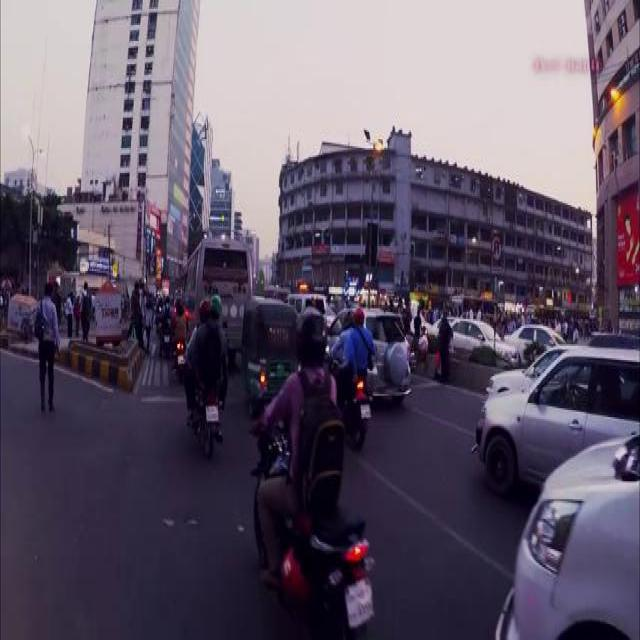bus: (181, 235, 253, 348)
car: (475, 345, 639, 477), (324, 307, 410, 401), (450, 316, 518, 359), (502, 322, 564, 357)
minivan: (504, 426, 638, 637), (284, 292, 326, 324)
motorbike: (248, 390, 376, 636), (324, 348, 368, 448), (190, 366, 222, 459), (172, 329, 186, 375), (160, 315, 170, 354)
three wheelers -CNG-: (242, 293, 296, 404)
